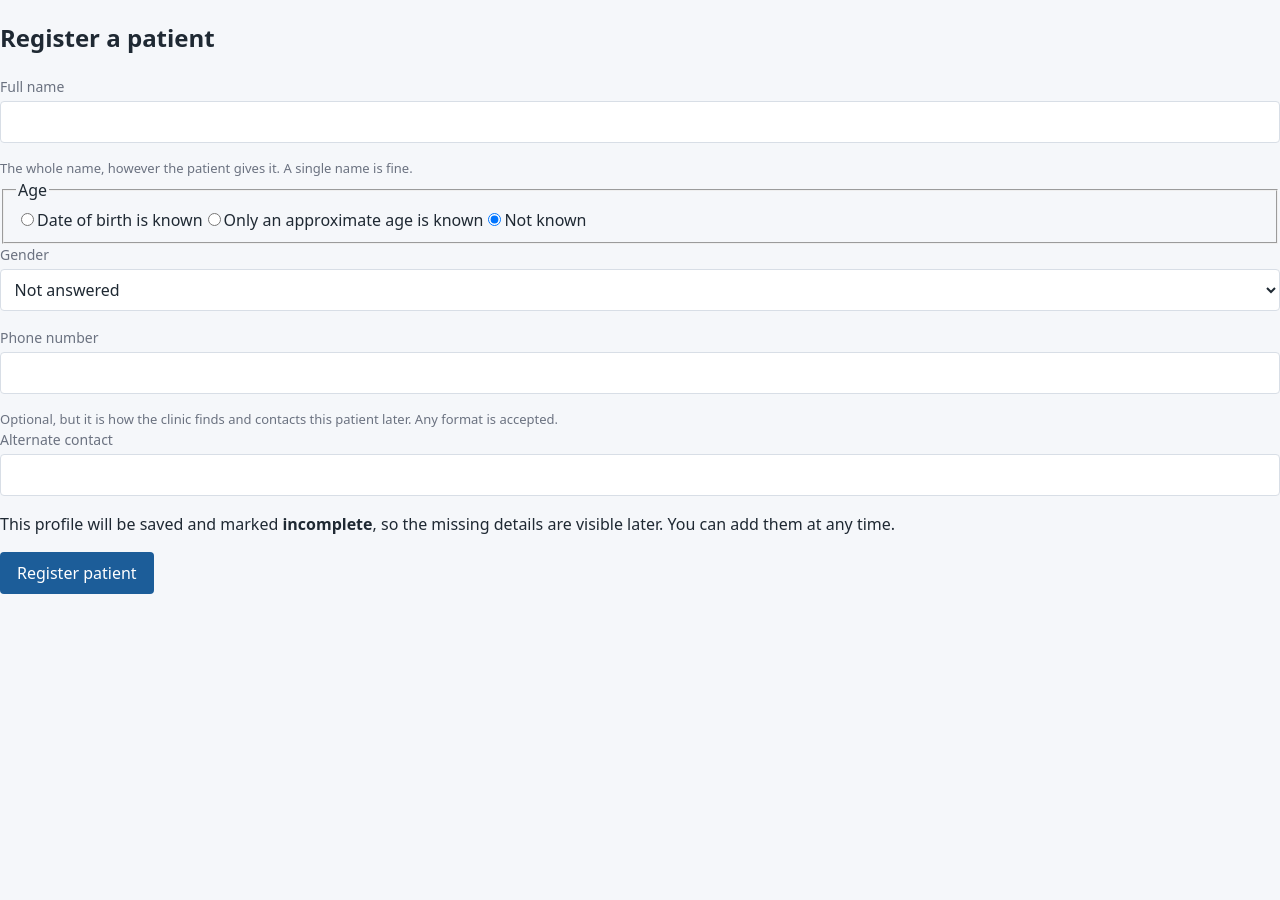
Test case: PatientForm duplicate handling (F-6) › opens the warning dialog when the server answers 409, and registers nobody
The width and height of the screenshot is (1280, 900).
Type "Ravi Kumar" into the field labelled "Full name".
click(640, 122); type("Ravi Kumar")  # box [0, 101, 1279, 143]
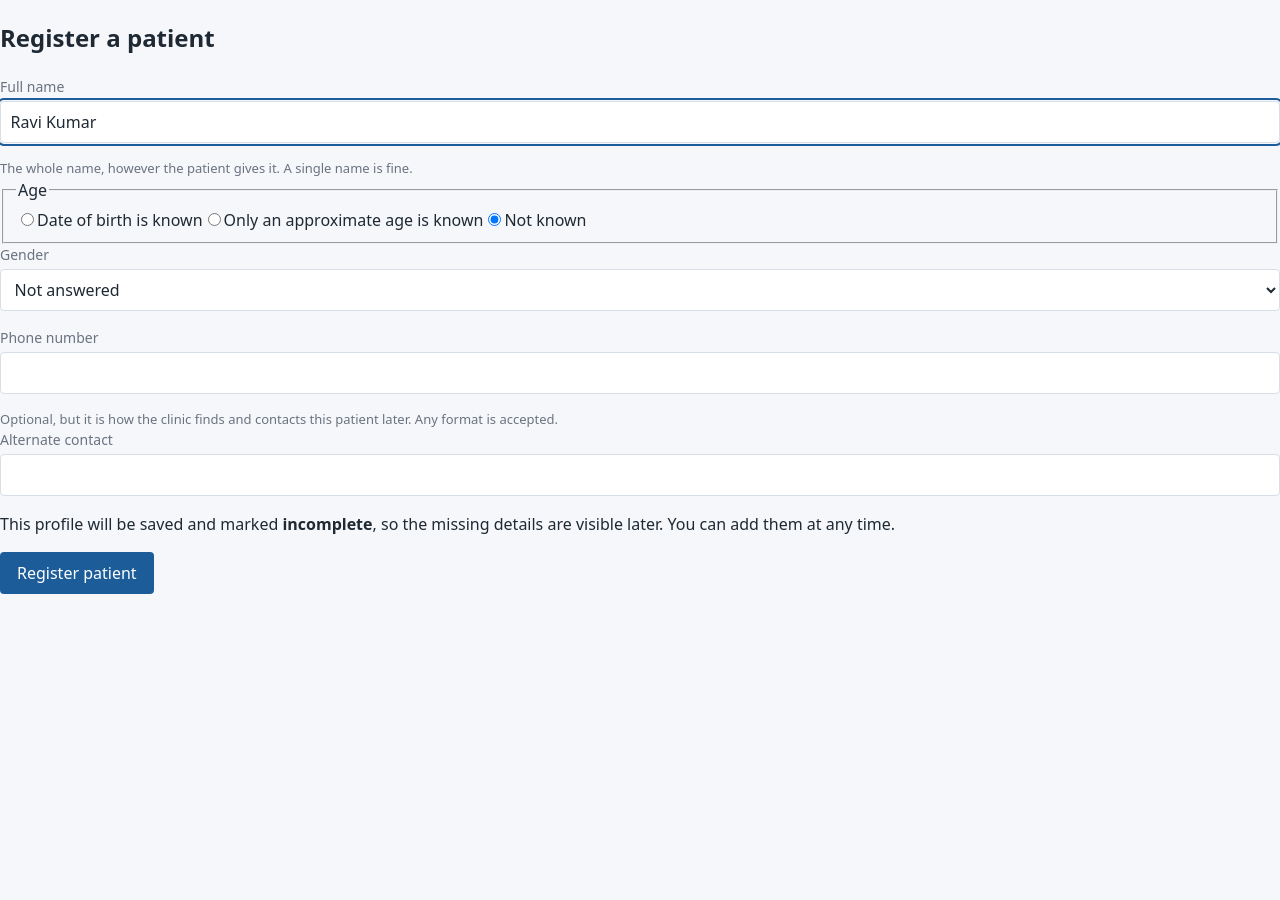
Type "98765 43210" into the field labelled "Phone number".
click(640, 373); type("98765 43210")  # box [0, 352, 1279, 394]
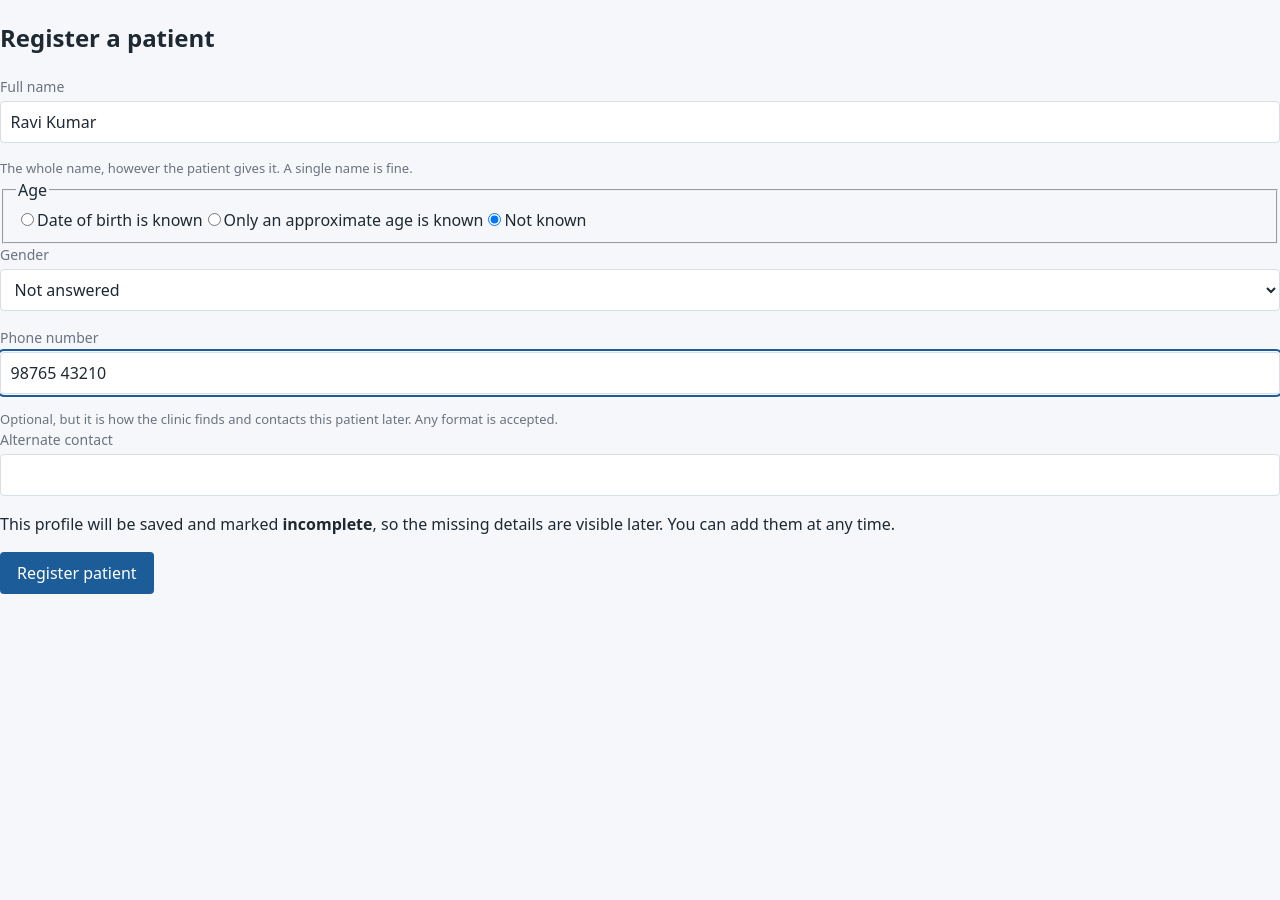
Click the button "Register patient".
click(77, 573)  # box [0, 552, 154, 594]
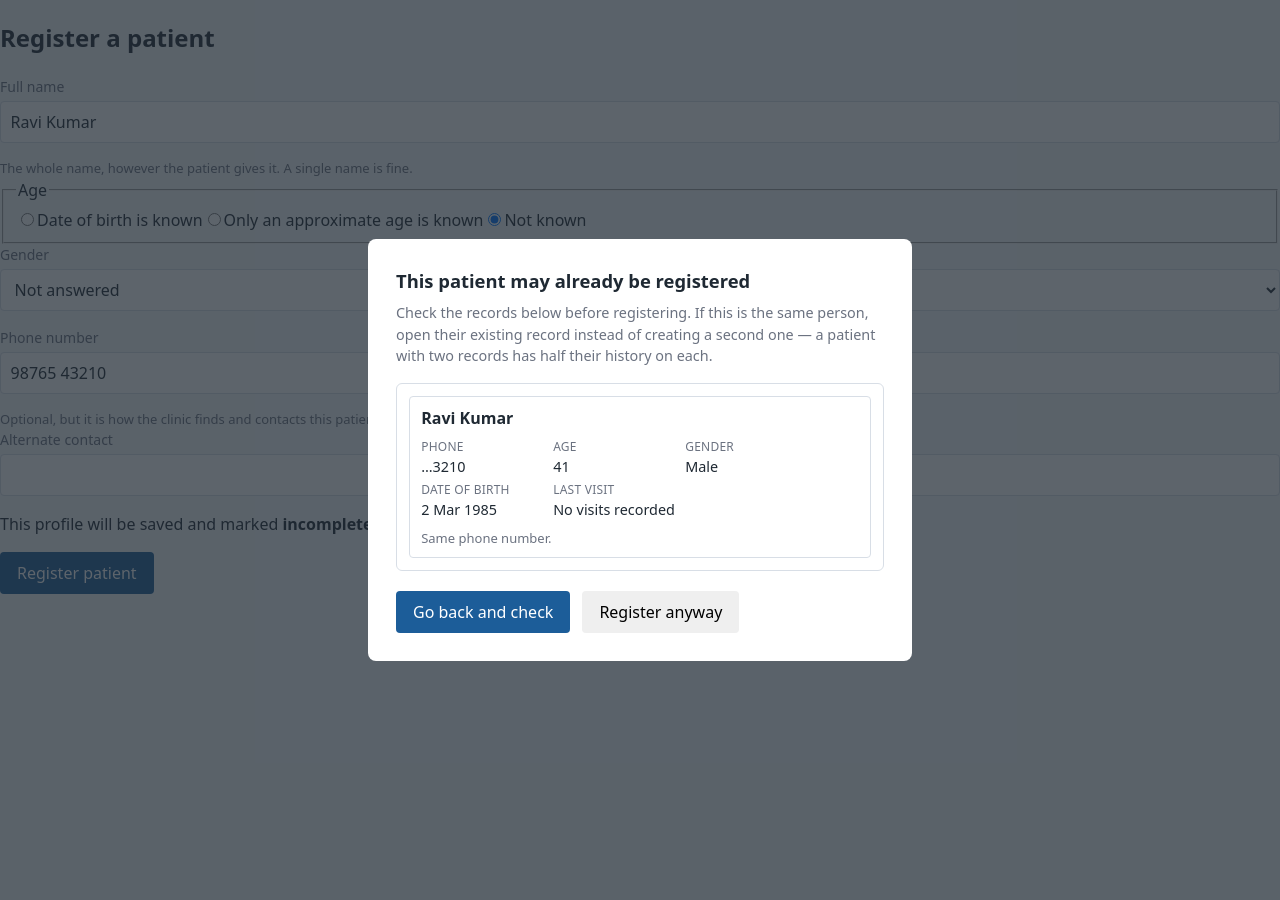
Check: the dialog is shown
Check: the heading "This patient may already be registered" is shown, box [396, 268, 750, 293]
